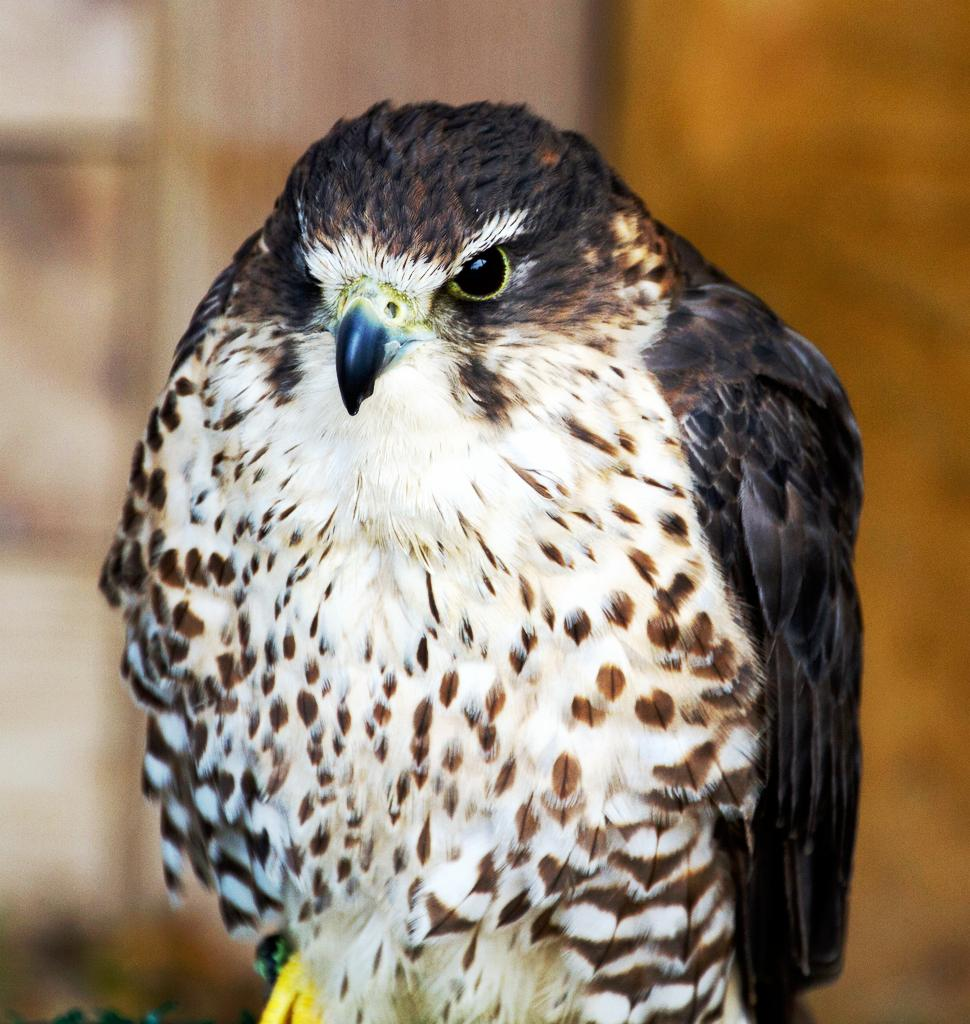Owl: (100, 109, 899, 1024)
